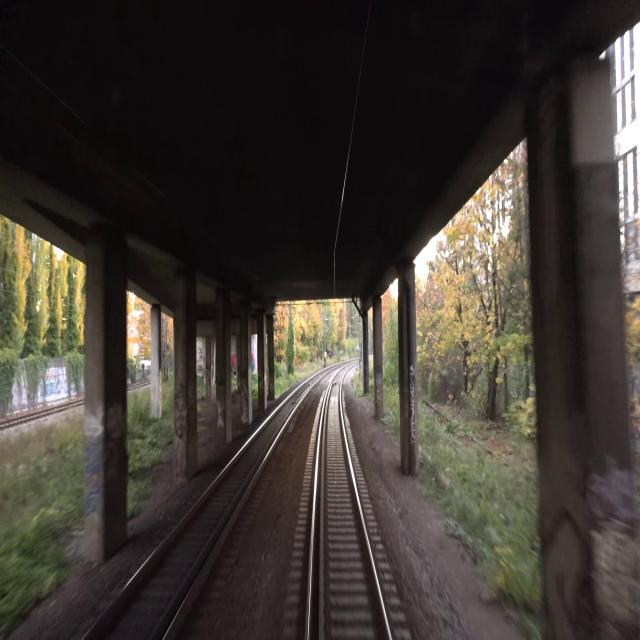rail-track: (90, 388, 303, 639), (325, 377, 385, 639)
